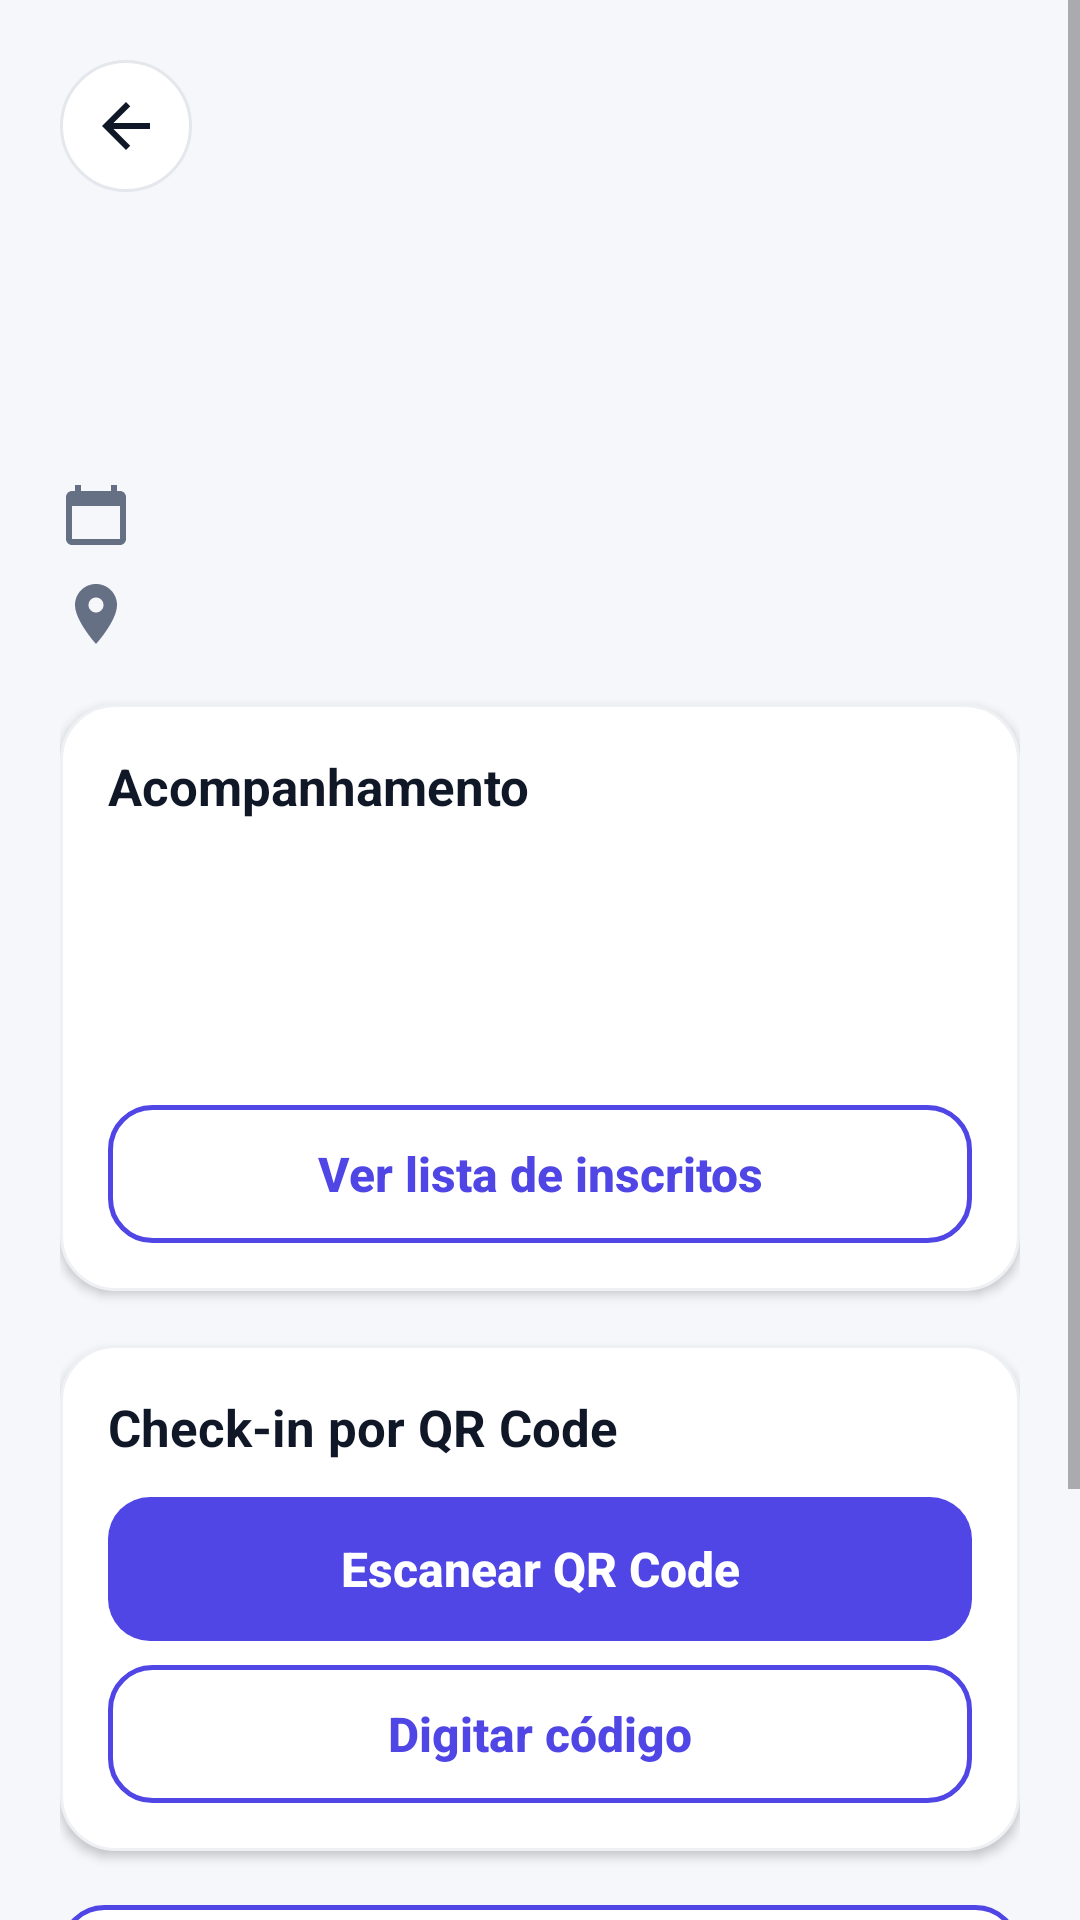

Point at icon controls on the screen. Image size 1080*1920, points as point (x, y).
Voltar: point (126, 126)
